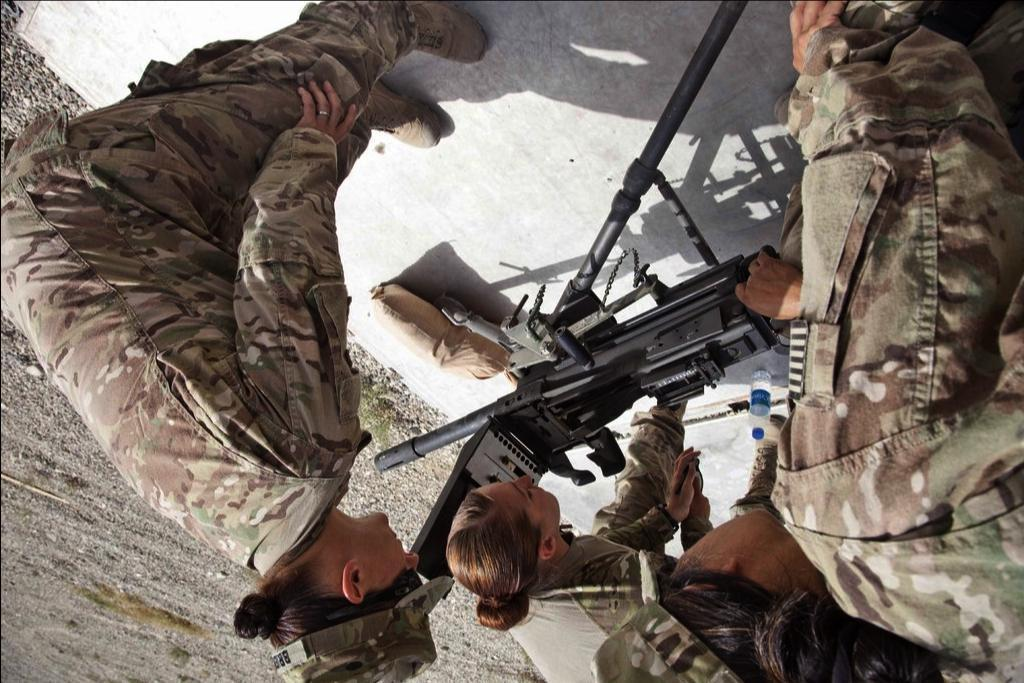gun: (367, 254, 768, 478)
